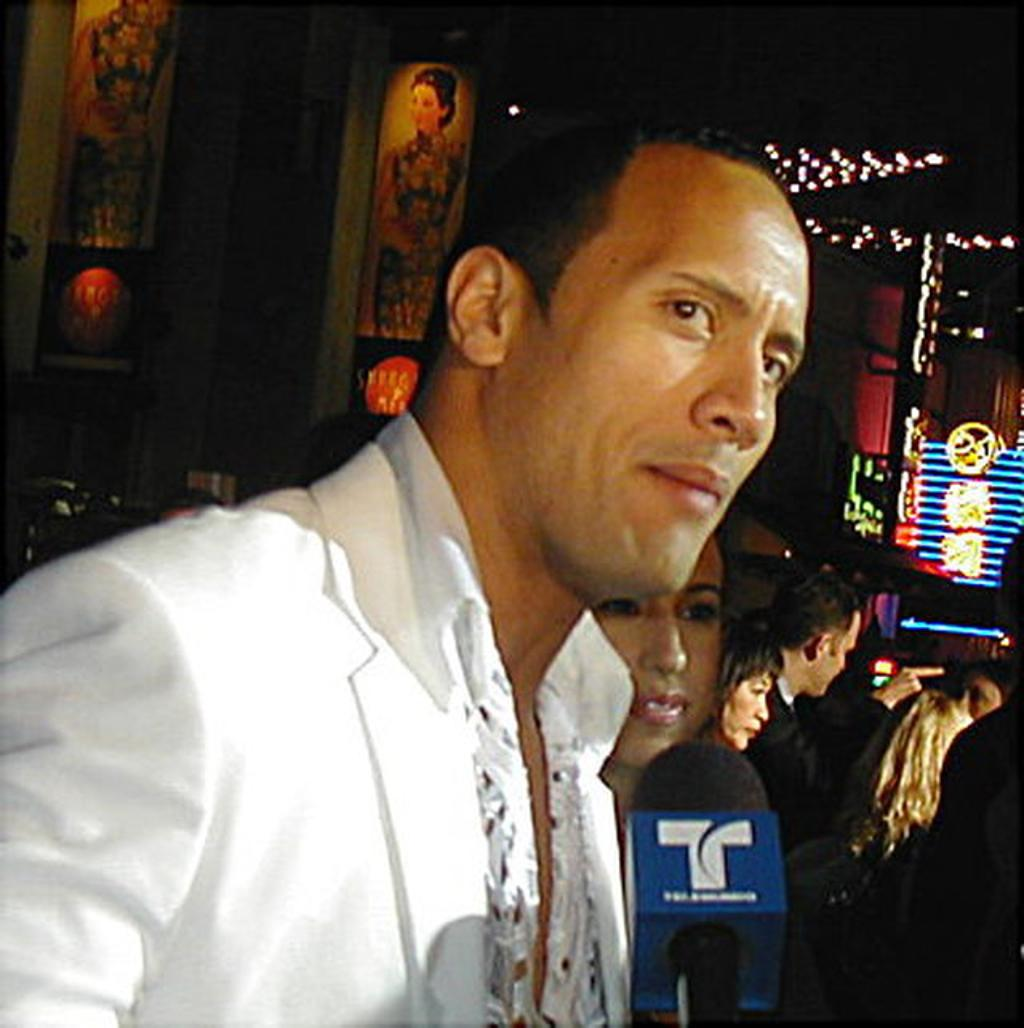face: (522, 175, 808, 596), (590, 526, 722, 769), (805, 605, 860, 697), (718, 669, 772, 751), (959, 674, 1001, 732), (410, 85, 438, 129)
